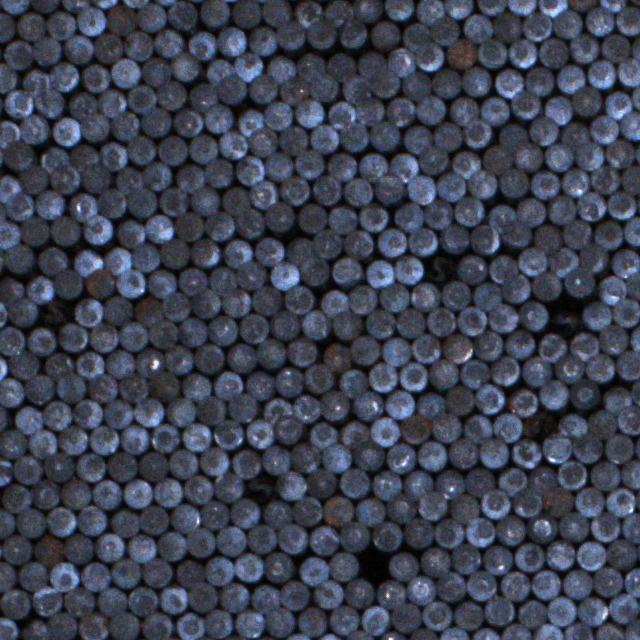tool: (487, 108, 537, 154), (394, 114, 446, 158), (10, 54, 60, 98), (106, 206, 152, 253), (108, 157, 152, 197), (308, 522, 340, 556), (132, 294, 166, 326), (350, 389, 384, 421), (49, 214, 81, 247), (36, 142, 69, 174), (79, 60, 111, 93), (475, 36, 508, 68), (32, 532, 64, 564), (578, 594, 610, 626), (576, 539, 608, 571), (270, 309, 302, 341), (66, 188, 98, 220), (97, 138, 129, 170), (170, 106, 202, 138), (494, 66, 526, 98), (461, 11, 493, 43), (107, 3, 138, 36), (106, 508, 140, 538), (588, 511, 622, 541), (417, 488, 447, 522), (588, 460, 622, 490), (139, 55, 173, 85), (296, 606, 328, 637), (17, 560, 48, 592), (371, 521, 403, 552), (506, 386, 538, 417), (598, 324, 630, 355), (456, 253, 488, 284), (448, 95, 480, 126), (604, 190, 636, 221), (338, 19, 369, 51), (246, 25, 278, 56), (338, 468, 371, 498), (243, 370, 276, 400), (331, 256, 364, 286), (384, 388, 414, 421), (310, 173, 340, 206), (459, 66, 492, 96), (601, 384, 632, 415), (327, 203, 358, 234), (454, 196, 485, 227), (586, 58, 617, 89), (78, 610, 110, 640), (264, 608, 296, 638), (62, 586, 94, 616), (312, 578, 344, 608), (79, 561, 111, 591), (262, 552, 294, 582), (246, 522, 276, 554), (14, 507, 46, 537), (46, 506, 76, 538), (324, 494, 354, 526), (214, 471, 244, 503), (44, 451, 74, 483), (106, 451, 138, 481), (170, 448, 200, 480), (232, 446, 262, 478), (322, 442, 352, 474), (148, 422, 180, 452), (560, 568, 592, 598), (420, 546, 450, 578), (482, 543, 512, 575), (514, 540, 544, 572), (496, 514, 526, 546), (526, 513, 558, 543), (558, 510, 588, 542), (478, 488, 510, 518), (574, 488, 606, 518), (372, 468, 402, 500), (354, 440, 386, 470), (414, 441, 446, 471), (478, 438, 510, 468), (132, 396, 164, 426), (148, 370, 180, 400), (212, 368, 242, 400), (6, 350, 38, 380), (330, 310, 362, 340), (321, 341, 351, 373), (84, 268, 116, 298), (364, 258, 396, 288), (376, 227, 408, 257), (474, 384, 506, 414), (568, 378, 600, 408), (427, 359, 459, 389), (488, 356, 520, 386), (521, 355, 553, 385), (553, 353, 585, 383), (441, 334, 473, 364), (503, 330, 535, 360), (438, 224, 470, 254), (592, 218, 622, 250), (82, 214, 112, 246), (34, 188, 66, 218), (34, 88, 66, 118), (66, 90, 98, 120), (296, 200, 326, 232), (156, 186, 188, 216), (188, 185, 220, 215), (342, 177, 374, 207), (374, 174, 406, 204), (435, 170, 467, 200), (498, 168, 530, 198), (326, 151, 358, 181), (512, 142, 544, 172), (264, 52, 296, 82), (507, 38, 539, 68), (604, 138, 636, 168), (527, 115, 559, 145), (542, 94, 574, 124), (556, 62, 586, 94), (521, 10, 553, 40), (491, 10, 523, 40), (370, 19, 400, 51), (94, 32, 124, 64), (216, 24, 246, 56), (378, 336, 411, 365), (174, 610, 205, 640), (0, 534, 31, 564), (94, 532, 125, 562), (170, 502, 201, 532), (0, 483, 31, 513), (213, 419, 244, 449), (390, 602, 421, 632), (484, 595, 514, 626), (450, 543, 480, 574), (404, 518, 434, 549), (447, 492, 478, 522), (386, 442, 416, 473), (572, 432, 602, 463), (102, 398, 132, 429), (24, 374, 55, 404), (304, 362, 334, 393), (135, 347, 165, 378), (193, 344, 224, 374), (256, 338, 286, 369), (25, 326, 56, 356), (415, 390, 446, 420), (568, 331, 598, 362), (3, 139, 33, 170), (125, 187, 156, 217), (249, 179, 279, 210), (173, 163, 204, 193), (388, 152, 419, 182), (156, 134, 187, 164), (279, 125, 309, 156), (126, 83, 156, 114), (445, 38, 476, 68), (584, 5, 614, 36), (274, 20, 305, 50), (400, 20, 430, 51), (77, 5, 107, 36), (297, 555, 329, 584), (182, 475, 214, 504), (433, 467, 465, 496), (195, 395, 227, 424), (57, 323, 89, 352), (516, 300, 548, 329), (547, 247, 579, 276), (173, 558, 206, 586), (398, 415, 431, 443), (188, 238, 221, 266), (203, 158, 236, 186), (30, 586, 60, 616), (128, 586, 158, 616), (158, 584, 188, 614), (188, 582, 218, 612), (218, 582, 248, 612), (280, 580, 310, 610), (49, 560, 79, 590), (186, 526, 216, 556), (216, 524, 246, 554), (276, 523, 306, 553), (230, 498, 260, 528), (292, 496, 322, 526), (60, 478, 90, 508), (91, 478, 121, 508), (152, 476, 182, 506), (306, 467, 336, 497), (200, 445, 230, 475), (28, 428, 58, 458), (119, 424, 149, 454), (329, 604, 359, 634), (360, 606, 390, 636), (422, 600, 452, 630), (454, 599, 484, 629), (548, 596, 578, 626), (610, 593, 640, 623), (344, 578, 374, 608), (406, 574, 436, 604), (466, 570, 496, 600), (500, 570, 530, 600), (531, 569, 561, 599), (593, 566, 623, 596), (328, 551, 358, 581), (388, 552, 418, 582), (545, 539, 575, 569), (606, 539, 636, 569), (434, 517, 464, 547), (356, 496, 386, 526), (386, 493, 416, 523), (605, 487, 635, 517), (448, 438, 478, 468), (540, 433, 570, 463), (604, 434, 634, 464), (369, 416, 399, 446), (432, 412, 462, 442), (492, 412, 522, 442), (14, 404, 44, 434), (42, 400, 72, 430), (72, 398, 102, 428), (164, 396, 194, 426), (320, 390, 350, 420), (56, 373, 86, 403), (104, 348, 134, 378), (226, 342, 256, 372), (118, 320, 148, 350), (148, 318, 178, 348), (178, 316, 208, 346), (238, 314, 268, 344), (301, 308, 331, 338), (350, 334, 380, 364), (117, 268, 147, 298), (236, 260, 266, 290), (395, 255, 425, 285), (38, 246, 68, 276), (223, 238, 253, 268), (408, 226, 438, 256), (398, 362, 428, 392), (458, 359, 488, 389), (584, 352, 614, 382), (410, 282, 440, 312), (597, 275, 627, 305), (610, 248, 640, 278), (470, 224, 500, 254), (532, 222, 562, 252), (96, 188, 126, 218), (50, 115, 80, 145), (80, 112, 110, 142), (174, 212, 204, 242), (234, 209, 264, 239), (265, 202, 295, 232), (424, 200, 454, 230), (280, 175, 310, 205), (141, 160, 171, 190), (234, 154, 264, 184), (358, 152, 388, 182), (451, 148, 481, 178), (482, 144, 512, 174), (188, 133, 218, 163), (370, 120, 400, 150), (432, 120, 462, 150), (202, 103, 232, 133), (236, 108, 266, 138), (386, 96, 416, 126), (416, 95, 446, 125), (480, 95, 510, 125), (512, 90, 542, 120), (248, 74, 278, 104), (431, 68, 461, 98), (386, 46, 416, 76), (515, 197, 545, 227), (575, 191, 605, 221), (560, 168, 590, 198), (544, 142, 574, 172), (574, 140, 604, 170), (572, 84, 602, 114), (552, 8, 582, 38), (306, 20, 336, 50), (2, 39, 32, 69), (32, 36, 62, 66), (77, 505, 106, 536), (138, 452, 169, 481), (181, 422, 212, 451), (516, 598, 547, 627), (512, 437, 541, 468), (180, 371, 211, 400), (285, 336, 316, 365), (209, 314, 238, 345), (283, 285, 314, 314), (51, 163, 80, 194), (140, 612, 172, 640), (289, 442, 321, 470), (246, 417, 274, 449), (375, 580, 407, 608), (512, 488, 544, 516), (101, 296, 133, 324), (55, 268, 83, 300), (342, 228, 374, 256), (539, 330, 567, 362), (358, 204, 390, 232), (292, 98, 324, 126), (532, 168, 560, 200), (538, 38, 570, 66), (45, 10, 77, 38), (230, 0, 262, 28), (64, 533, 93, 563), (158, 530, 187, 560), (464, 517, 494, 546), (544, 486, 574, 515), (74, 349, 104, 378), (7, 298, 37, 327), (72, 297, 102, 326), (349, 284, 378, 314), (380, 283, 410, 312), (26, 273, 55, 303), (300, 256, 329, 286), (313, 228, 342, 258), (412, 334, 441, 364), (473, 330, 502, 360), (394, 308, 424, 337), (564, 268, 594, 297), (20, 216, 49, 246), (82, 162, 111, 192), (51, 62, 80, 92), (392, 202, 422, 231), (468, 169, 498, 198), (419, 146, 448, 176), (341, 122, 370, 152), (262, 101, 292, 130), (326, 100, 356, 129), (157, 80, 186, 110), (110, 58, 140, 87), (233, 52, 262, 82), (327, 51, 356, 81), (547, 194, 576, 224), (96, 587, 127, 615), (75, 453, 106, 481), (276, 365, 304, 396), (177, 266, 208, 294), (4, 243, 35, 271), (72, 248, 103, 276), (455, 306, 486, 334), (308, 124, 339, 152), (108, 112, 139, 140), (524, 66, 555, 94), (248, 583, 280, 610), (556, 461, 588, 488), (291, 0, 323, 27), (499, 220, 532, 246), (583, 300, 612, 329), (297, 51, 326, 80), (600, 34, 629, 63), (110, 612, 140, 640), (204, 608, 232, 638), (0, 590, 30, 618), (142, 558, 172, 586), (205, 554, 233, 584), (126, 534, 156, 562), (140, 504, 168, 534), (262, 499, 292, 527), (30, 480, 60, 508), (122, 478, 152, 506), (277, 470, 305, 500), (262, 444, 290, 474), (60, 426, 88, 456), (339, 419, 369, 447), (436, 572, 466, 600), (341, 522, 369, 552), (466, 468, 496, 496), (498, 466, 528, 494), (526, 464, 556, 492), (462, 412, 492, 440), (556, 410, 586, 438), (228, 392, 256, 422), (86, 374, 116, 402), (118, 372, 148, 400), (44, 352, 74, 380), (90, 322, 118, 352), (162, 290, 190, 320), (190, 290, 220, 318), (222, 289, 252, 317), (252, 286, 282, 314), (148, 268, 176, 298), (208, 265, 238, 293), (270, 260, 298, 290), (160, 240, 190, 268), (254, 237, 284, 265), (285, 234, 313, 264), (446, 384, 474, 414), (369, 362, 397, 392), (364, 310, 394, 338), (425, 307, 455, 335), (472, 282, 502, 310), (532, 272, 562, 300), (578, 242, 608, 270), (562, 218, 590, 248), (6, 191, 34, 221), (68, 141, 98, 169), (21, 114, 51, 142), (3, 88, 33, 116), (144, 214, 174, 242), (204, 213, 234, 241), (407, 174, 435, 204), (262, 152, 292, 180), (294, 150, 324, 178), (127, 134, 157, 162), (219, 129, 247, 159), (248, 128, 278, 156), (462, 120, 492, 148), (140, 108, 170, 136), (96, 88, 126, 116), (187, 81, 217, 109), (370, 68, 400, 96), (401, 71, 431, 99), (170, 53, 200, 81), (591, 164, 619, 194), (560, 120, 590, 148), (602, 90, 632, 118), (430, 16, 460, 44), (262, 0, 292, 28), (62, 36, 92, 64), (125, 30, 153, 60), (154, 28, 184, 56), (137, 2, 165, 32), (487, 304, 518, 331), (322, 0, 353, 27), (198, 0, 230, 26), (48, 611, 76, 640), (112, 559, 141, 587), (234, 552, 262, 581), (201, 499, 229, 528), (13, 454, 42, 482), (274, 415, 303, 443), (403, 470, 432, 498), (587, 410, 616, 438), (103, 245, 131, 274), (539, 380, 568, 408), (220, 187, 248, 216), (357, 48, 386, 76), (415, 41, 443, 70), (590, 115, 618, 144), (0, 428, 27, 458), (310, 421, 340, 448), (500, 274, 530, 301), (20, 166, 50, 193), (218, 74, 245, 104), (613, 6, 640, 36), (187, 30, 214, 60), (90, 426, 118, 454), (132, 243, 160, 271), (612, 298, 640, 326), (442, 280, 470, 308), (518, 247, 546, 275), (280, 76, 308, 104), (310, 74, 338, 102), (342, 74, 370, 102), (570, 34, 598, 62), (16, 12, 44, 40), (168, 0, 195, 29), (166, 344, 192, 374), (318, 288, 348, 314), (0, 274, 26, 304), (338, 370, 368, 396), (614, 350, 640, 380), (488, 254, 518, 280), (354, 98, 384, 124), (0, 324, 25, 355), (235, 610, 262, 638), (488, 203, 516, 230), (205, 56, 232, 84), (292, 394, 318, 422), (616, 56, 640, 86), (352, 0, 384, 22), (262, 397, 290, 422), (413, 0, 442, 24), (617, 404, 640, 434), (619, 163, 640, 194), (0, 378, 23, 406), (0, 172, 21, 202), (20, 618, 48, 640), (562, 621, 594, 640), (594, 620, 624, 640), (619, 110, 640, 138), (0, 119, 20, 148), (383, 0, 412, 20), (622, 566, 640, 598), (536, 0, 568, 18), (501, 622, 532, 640), (621, 459, 640, 488), (0, 219, 19, 248), (443, 0, 473, 18), (622, 512, 640, 541), (0, 62, 17, 92), (532, 624, 563, 640), (0, 562, 16, 592), (476, 0, 506, 16), (624, 216, 640, 245), (625, 270, 640, 300), (0, 13, 15, 42), (0, 616, 18, 640), (0, 508, 14, 538), (470, 626, 500, 640), (506, 0, 536, 14), (1, 0, 30, 14), (0, 455, 13, 486), (59, 0, 90, 13), (440, 627, 470, 640), (30, 0, 60, 13)
tool_b: (524, 410, 558, 442), (245, 473, 278, 503), (424, 256, 456, 284), (40, 300, 74, 326), (552, 306, 581, 334)
void: (358, 546, 388, 584)
